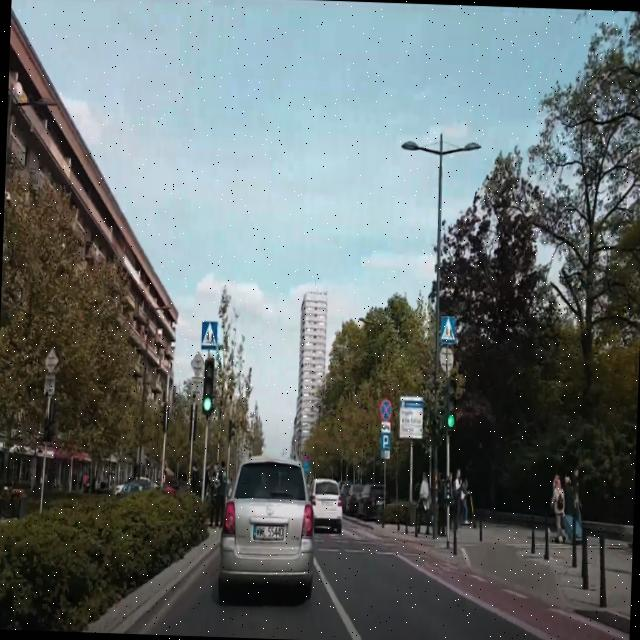Zakaz zatrzymywania sie: (379, 396, 392, 421)
